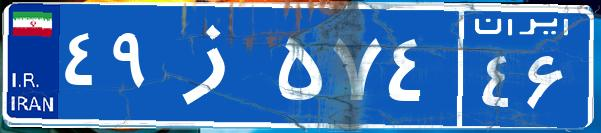4: (385, 28, 445, 110), (57, 26, 110, 107), (475, 38, 525, 113)
5: (273, 28, 330, 110)
6: (525, 38, 570, 115)
7: (330, 28, 385, 110)
9: (110, 28, 158, 105)
ز: (158, 15, 273, 115)
